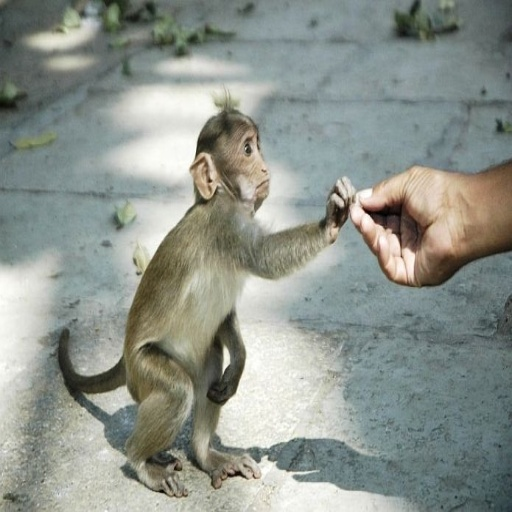hand: (336, 145, 512, 285)
